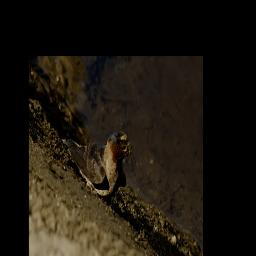Swallow: (65, 130, 131, 201)
